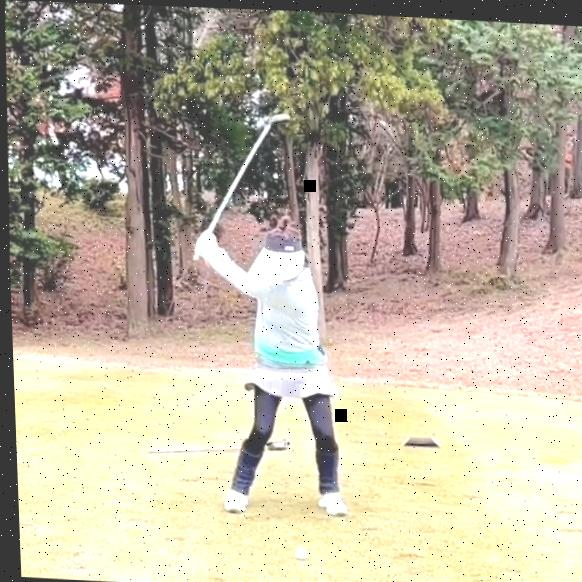ClubHead: (272, 111, 293, 121)
GolfBall: (293, 546, 303, 557)
